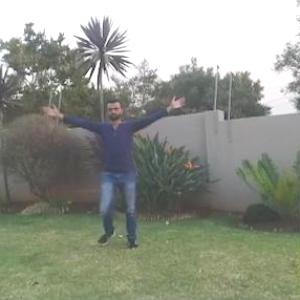takeoff: (52, 91, 183, 242)
